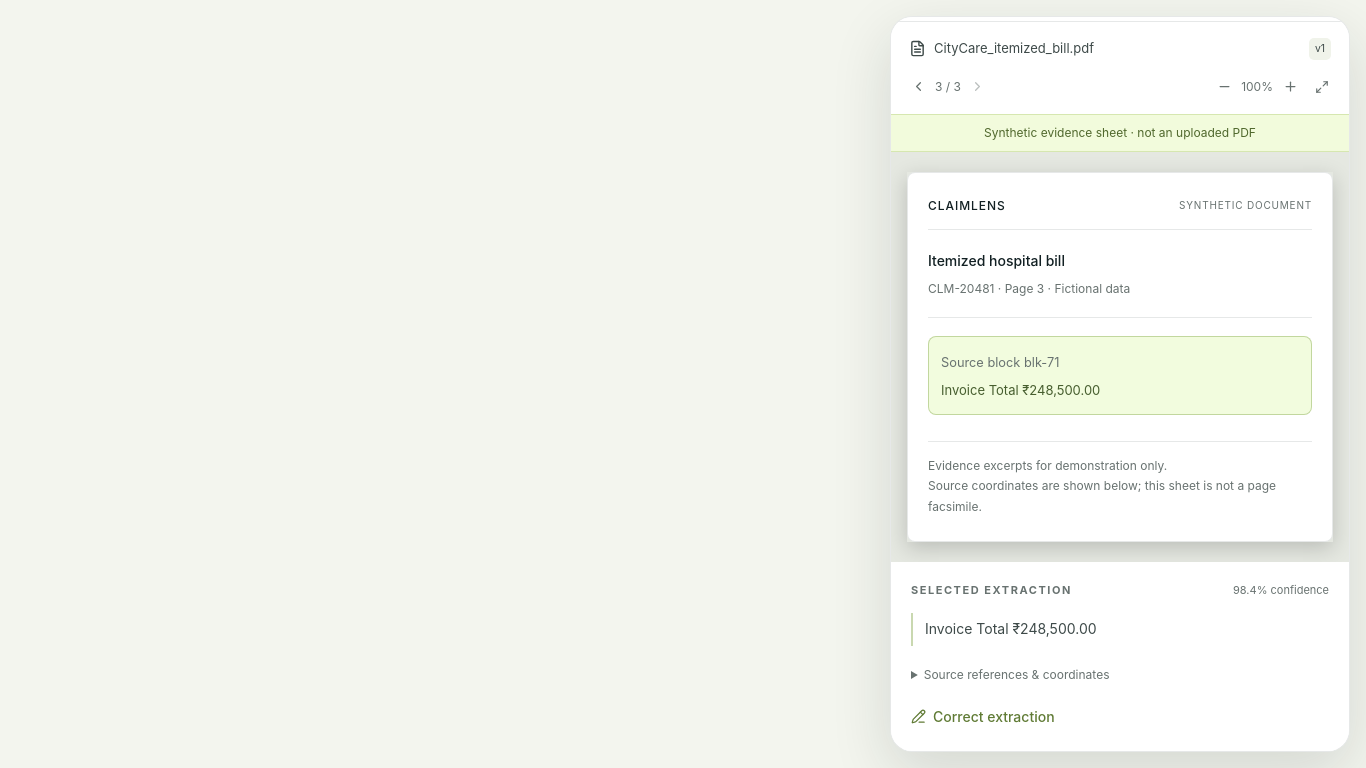
Test: connected review flows › keeps source evidence available after a failed correction and allows retry
The image size is (1366, 768).
(page scrolled)
Click the button "Correct extraction": (983, 716) [911,702,1055,731]
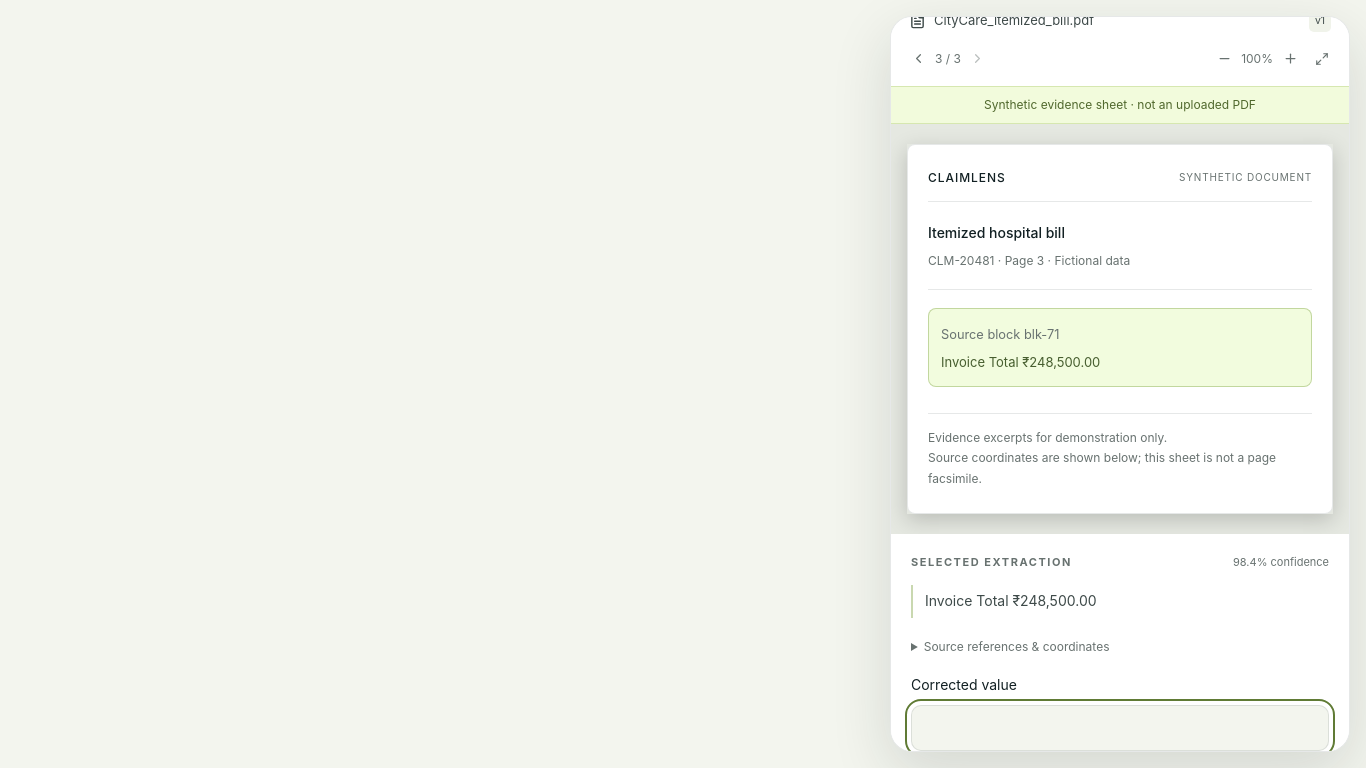
In the field labelled "Corrected value": (1120, 728) [911,705,1329,751], type "241500"
(page scrolled)
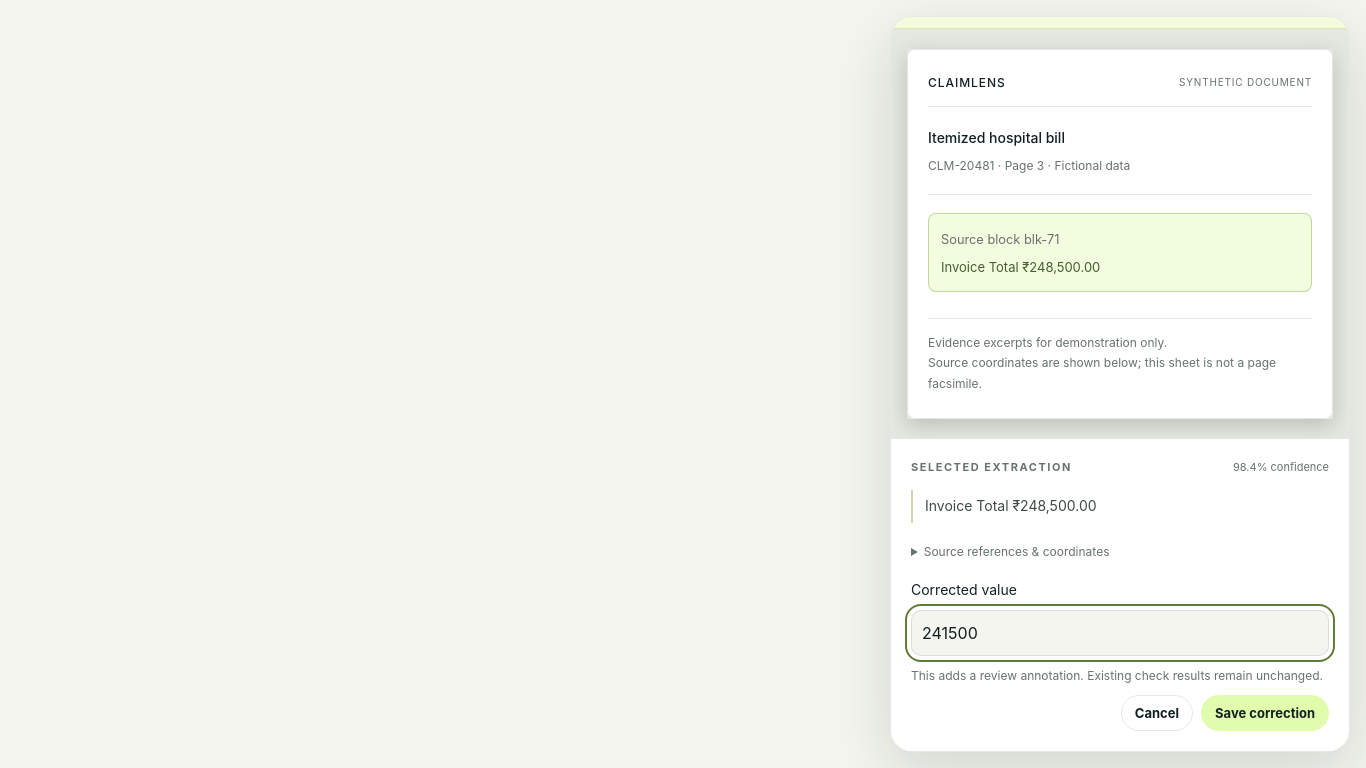
Click the button "Save correction": (1265, 713) [1201,695,1329,731]
(page scrolled)
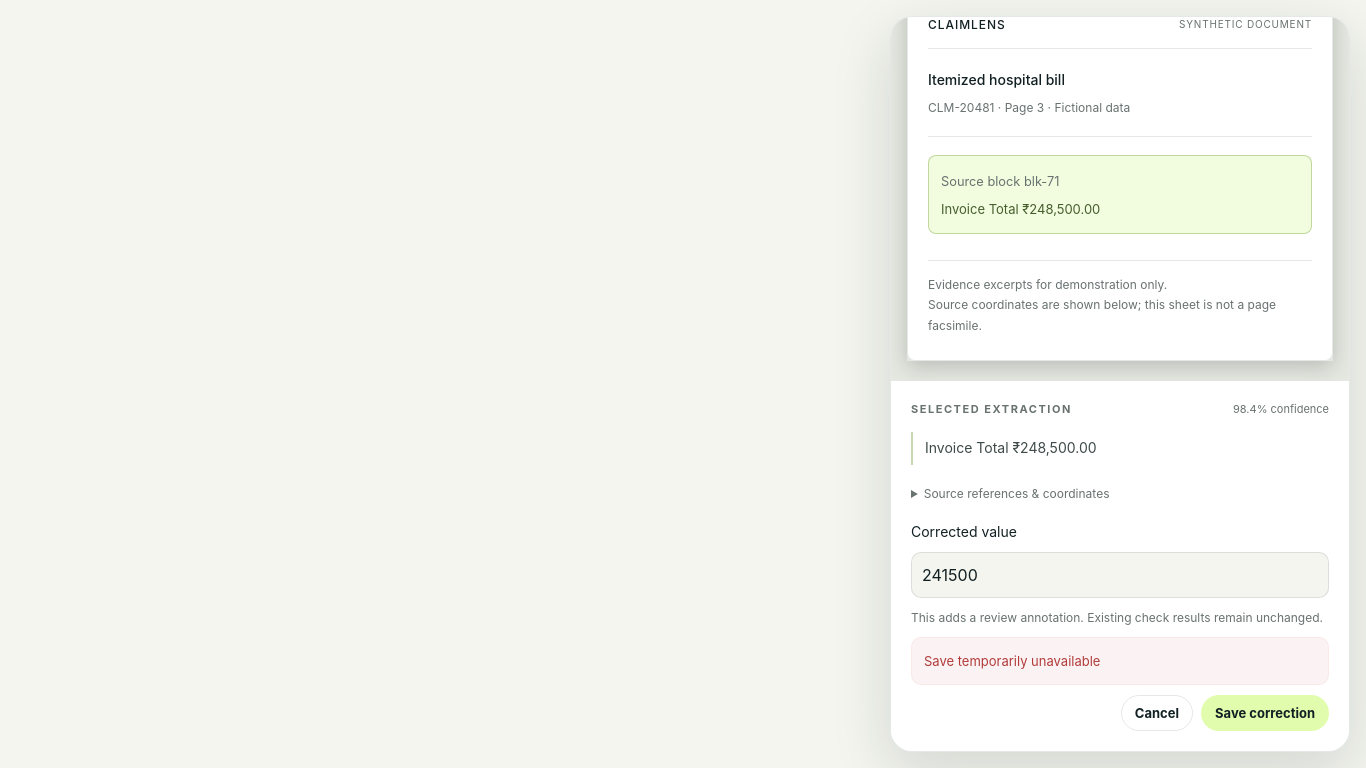
expect the message reads "Save temporarily unavailable": met, box [924,653,1100,669]
Click the button "Save correction": (1265, 713) [1201,695,1329,731]
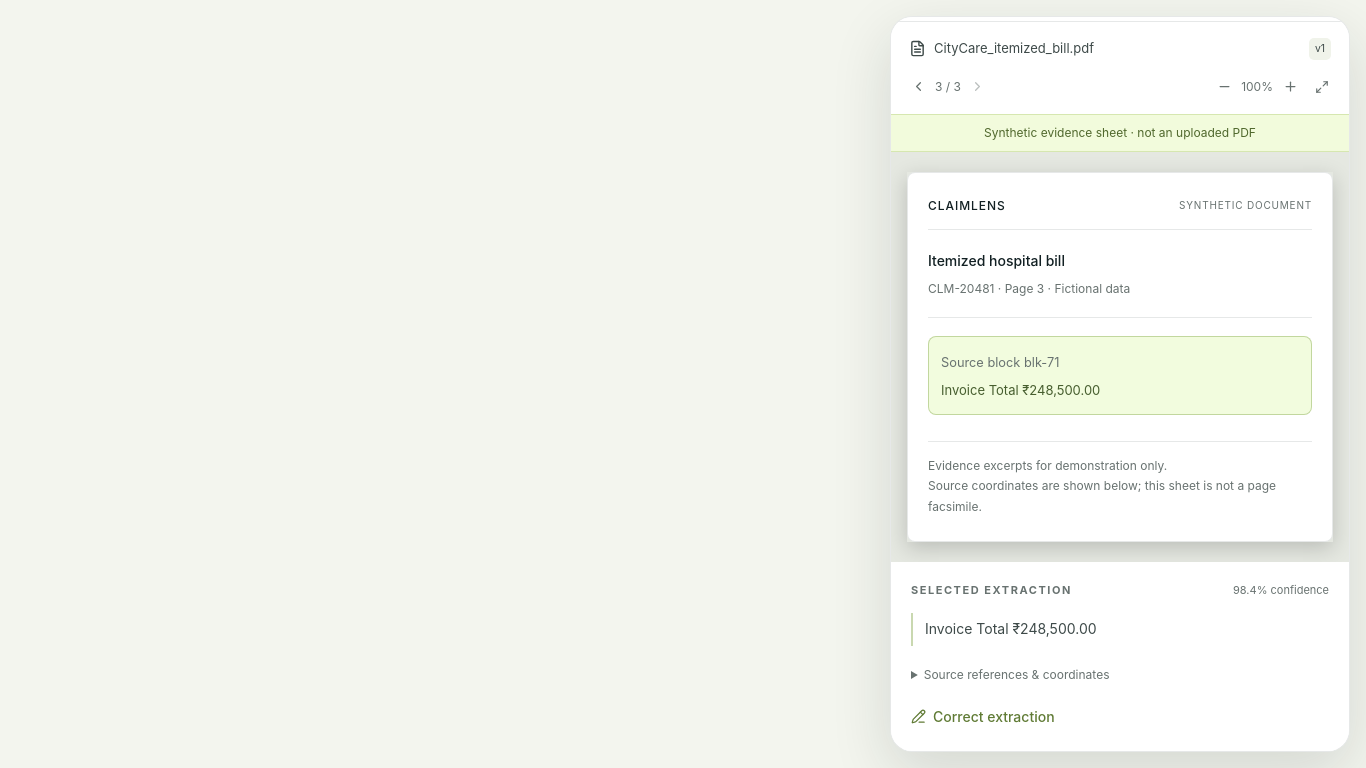
expect the label "Corrected value" is gone: met
